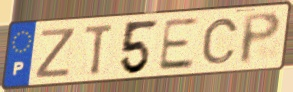5: (117, 18, 161, 76)
C: (200, 16, 240, 66)
E: (156, 16, 200, 73)
P: (238, 10, 283, 67)
T: (83, 22, 116, 77)
Z: (33, 26, 78, 81)
